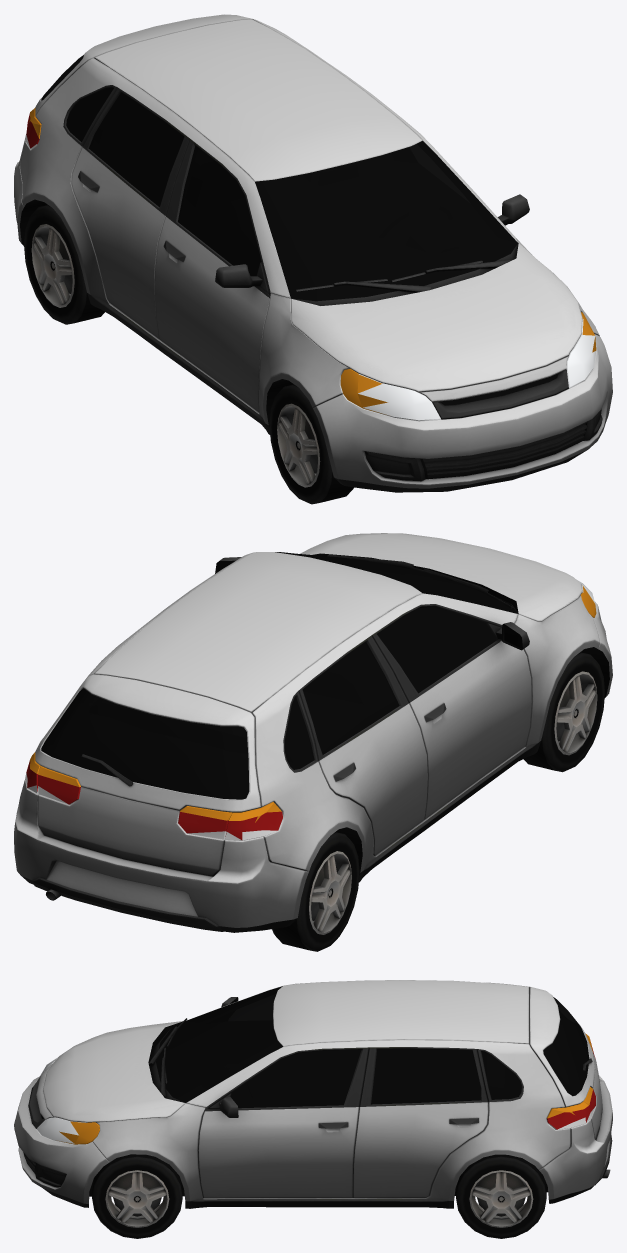
The model's file is car_traffic_1.glb.
3 renders of one model, top to bottom at view 1: azimuth 30°, elevation 25°; view 2: azimuth 150°, elevation 25°; view 3: azimuth 270°, elevation 25°, orthographic. The views are drawn at different scales.
Parts seen in each view (by area): view 1: Body, Glass, WheelFR, WheelRR, Headlights, IndicatorFR; view 2: Body, Glass, WheelRR, WheelFR, Brakelights, IndicatorRR, Reverselights; view 3: Body, Glass, WheelFL, WheelRL, Headlights, Brakelights, IndicatorFL, IndicatorRL.
Part boxes in pixels (x1,y1,x2,y2): Body: [14, 14, 612, 492]; Glass: [41, 55, 517, 301]; WheelFR: [269, 384, 354, 504]; WheelRR: [24, 205, 104, 324]; Headlights: [358, 319, 596, 421]; IndicatorFR: [340, 368, 387, 414]; Body: [14, 533, 612, 932]; Glass: [41, 552, 517, 799]; WheelRR: [272, 832, 359, 951]; WheelFR: [523, 652, 604, 772]; Brakelights: [26, 760, 282, 839]; IndicatorRR: [180, 802, 281, 822]; Reverselights: [25, 773, 278, 840]; Body: [14, 980, 612, 1208]; Glass: [156, 986, 589, 1108]; WheelFL: [92, 1154, 182, 1238]; WheelRL: [456, 1154, 546, 1238]; Headlights: [37, 1057, 87, 1143]; Brakelights: [547, 1042, 595, 1129]; IndicatorFL: [59, 1121, 99, 1144]; IndicatorRL: [547, 1087, 592, 1118].
Size of the model in its own units: 1.78 by 1.38 by 4.05.
7 materials, 2 textured.
